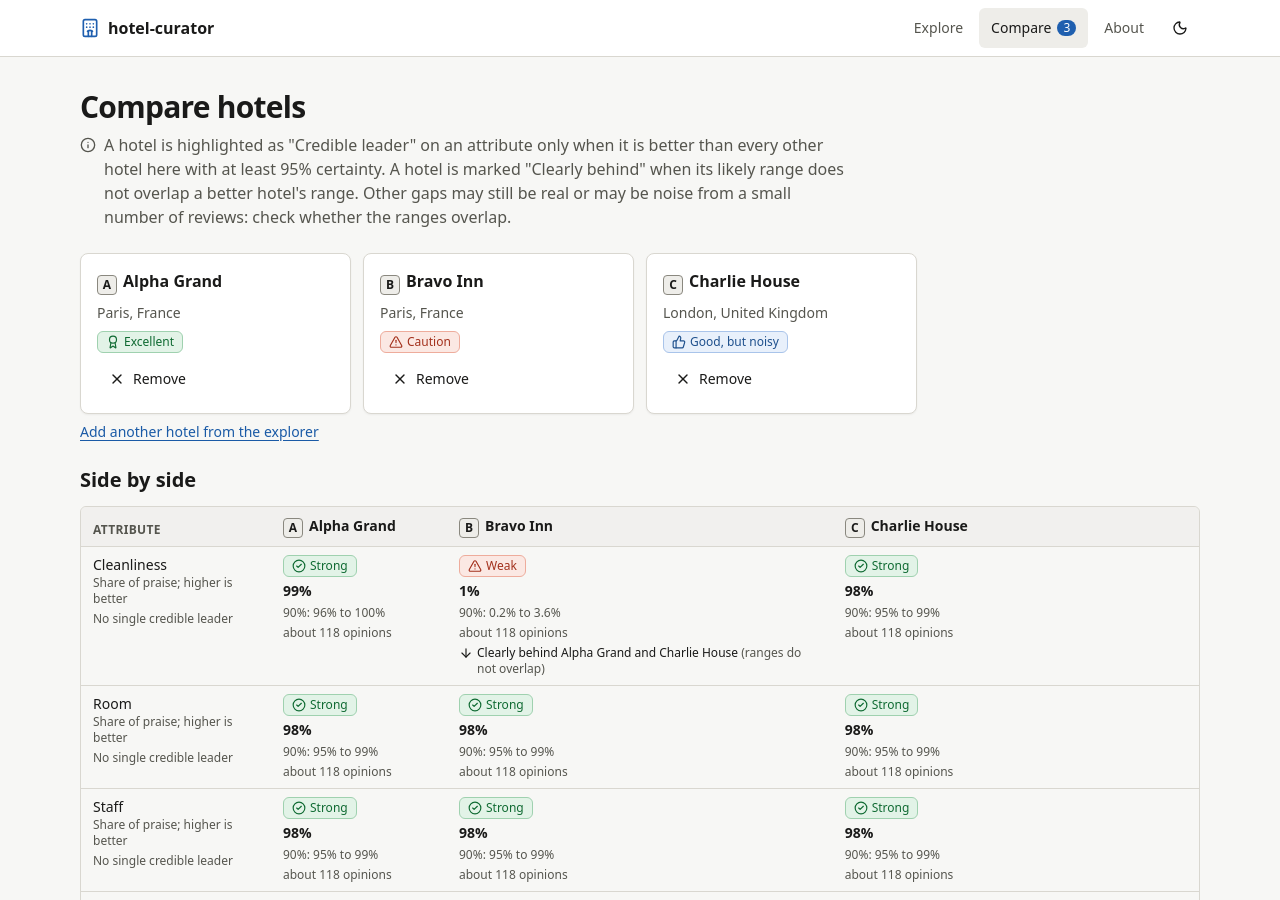
Test: Compare page › does not put a removed hotel back when the next comparison fails
This screenshot has width=1280, height=900.
Step 1. Click the button with aria-label "Remove Charlie House from the comparison" → (713, 379), box [663,361,764,397]
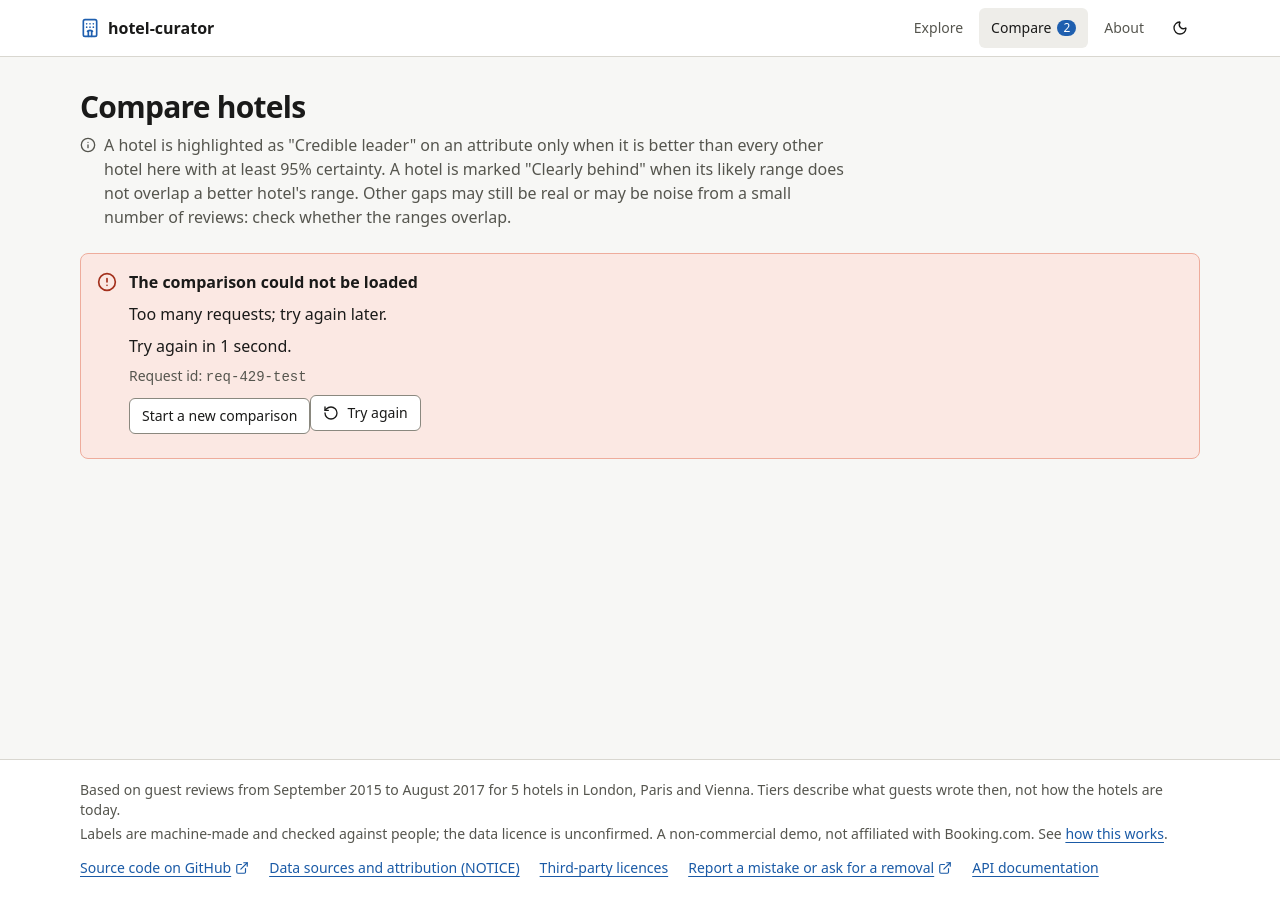
Now the message shows "Try again in 1 second.", box [80,253,1200,459]
